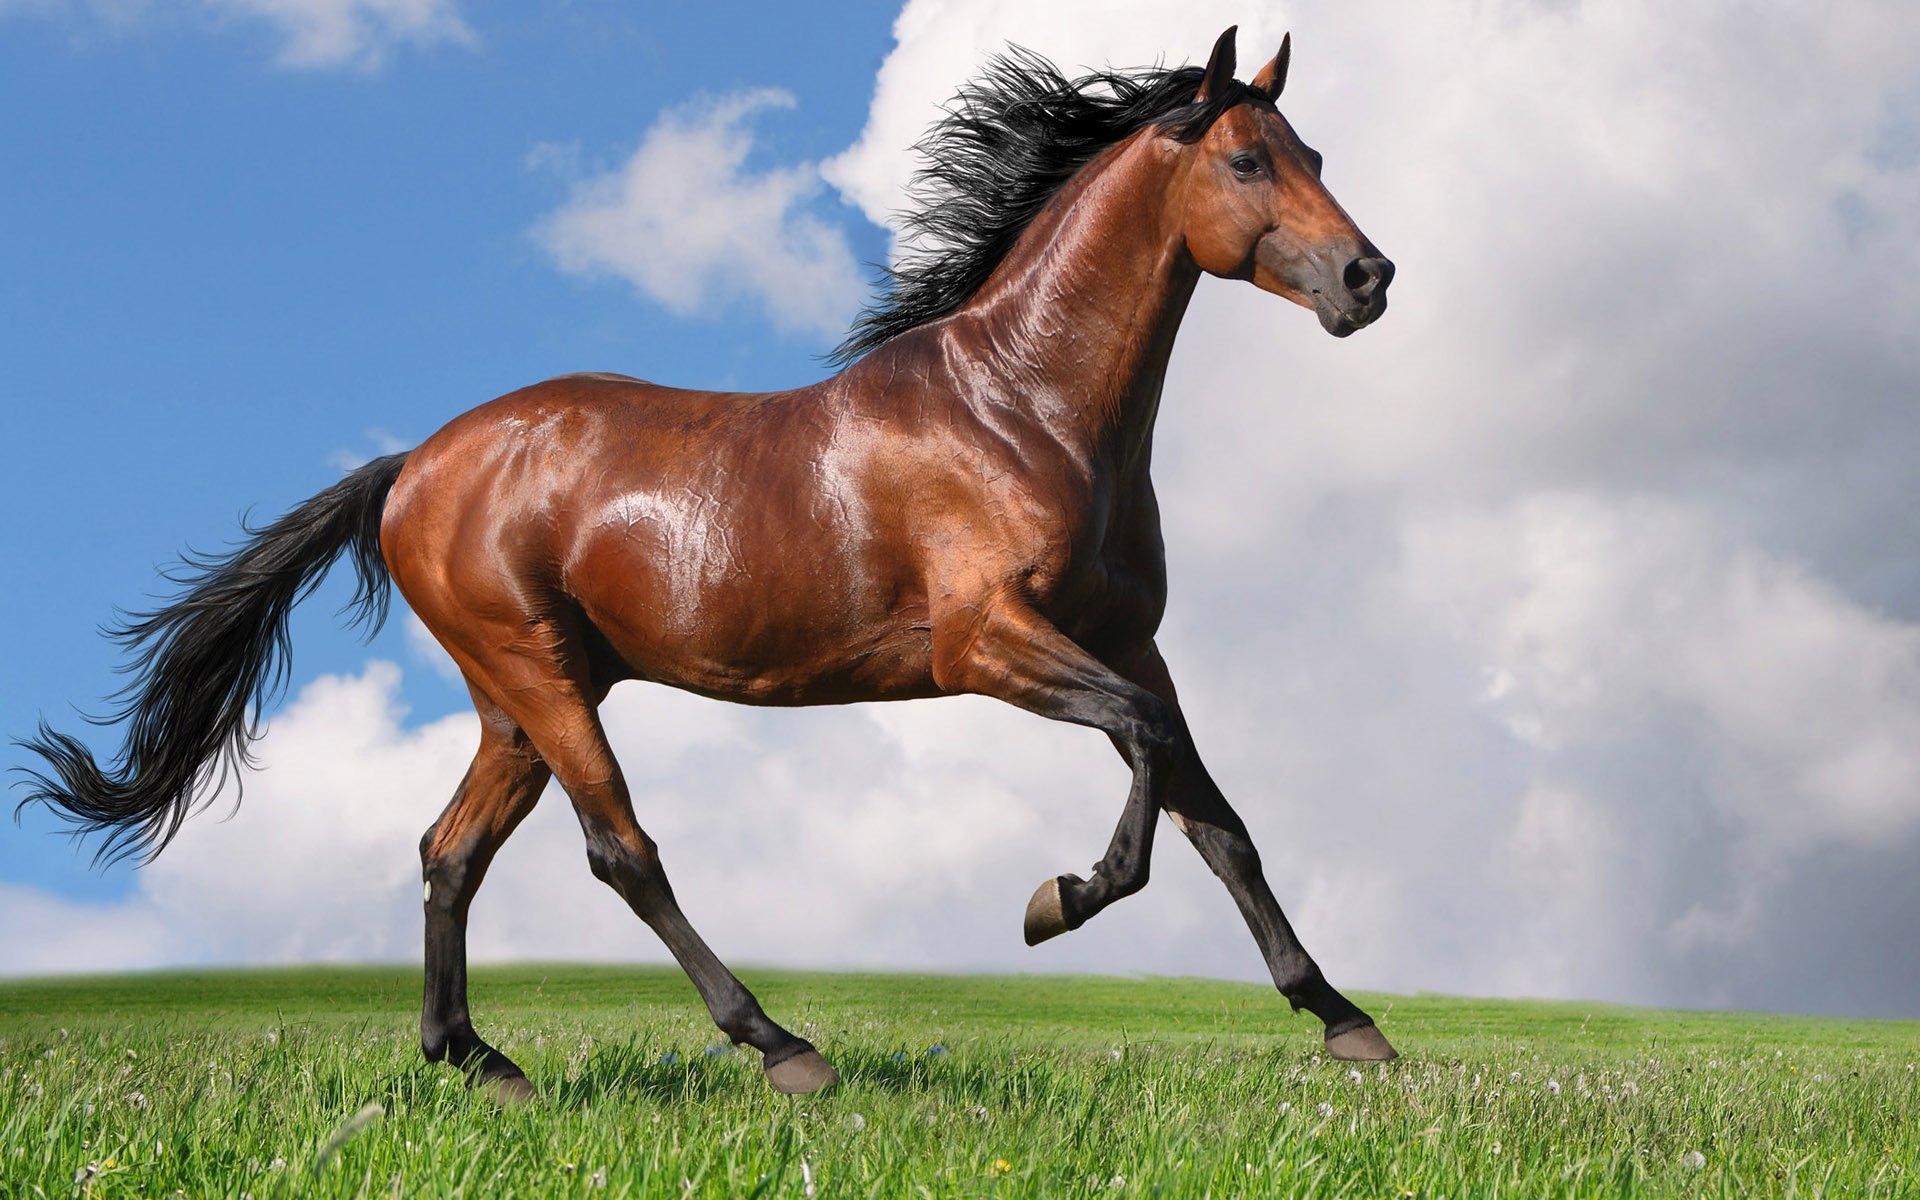horse: (1, 21, 1402, 1114)
